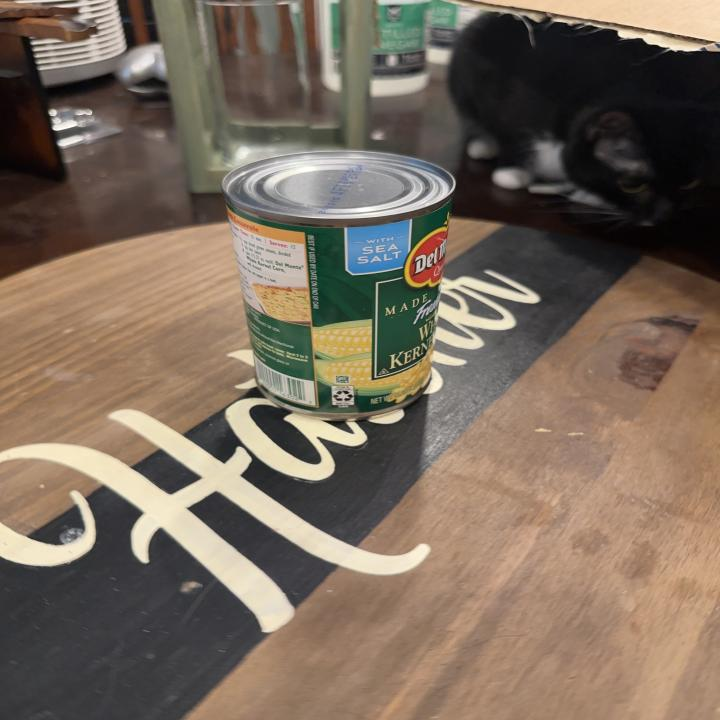Canned-Corn: (222, 154, 472, 441)
